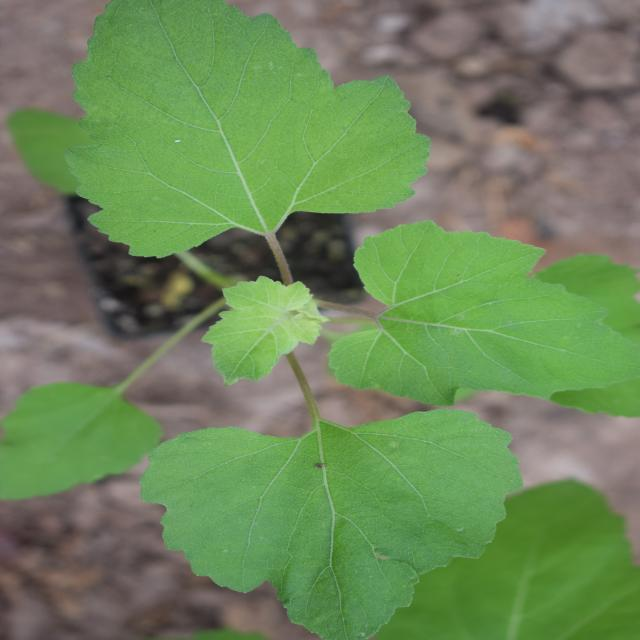cocklebur: (31, 39, 615, 607)
